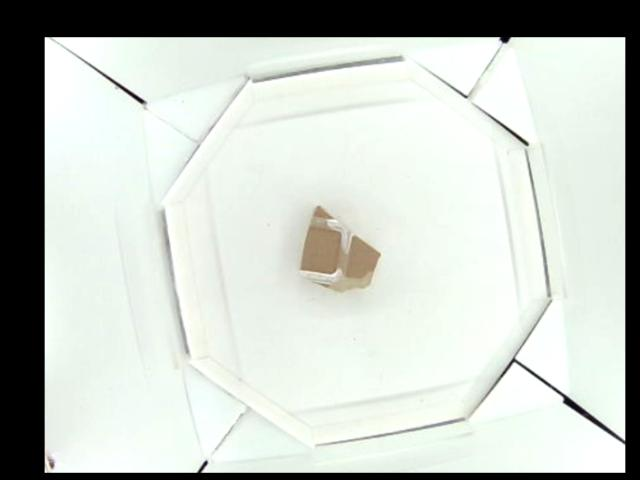China: (300, 207, 383, 294)
